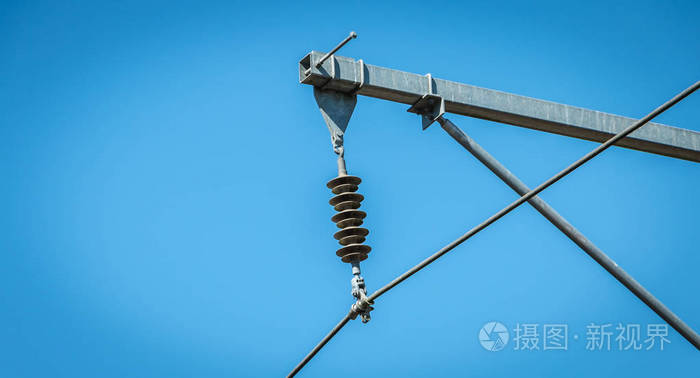insulator: (325, 175, 371, 265)
